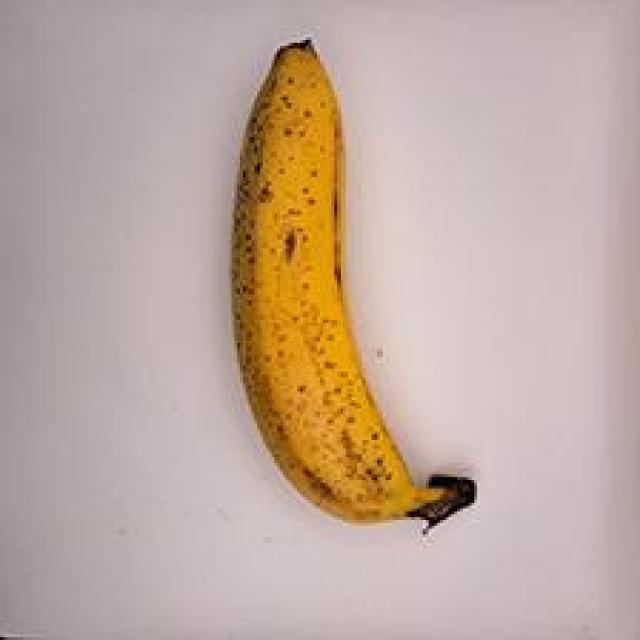Overripe: (210, 16, 498, 548)
